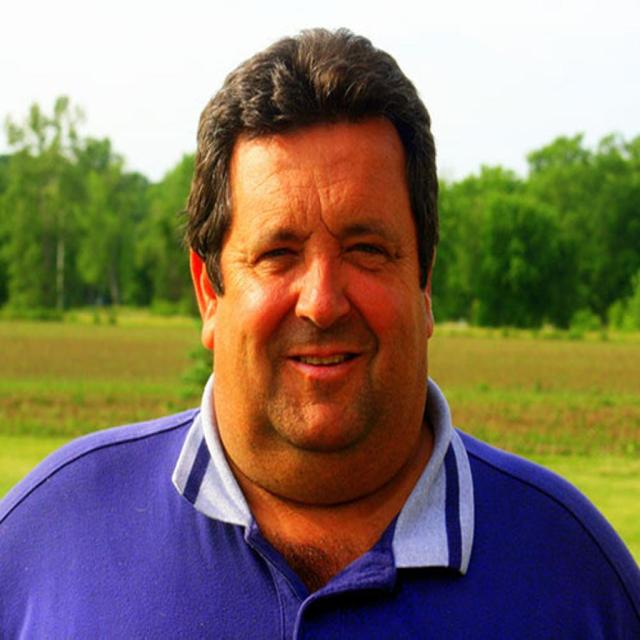Face: (204, 113, 446, 493)
